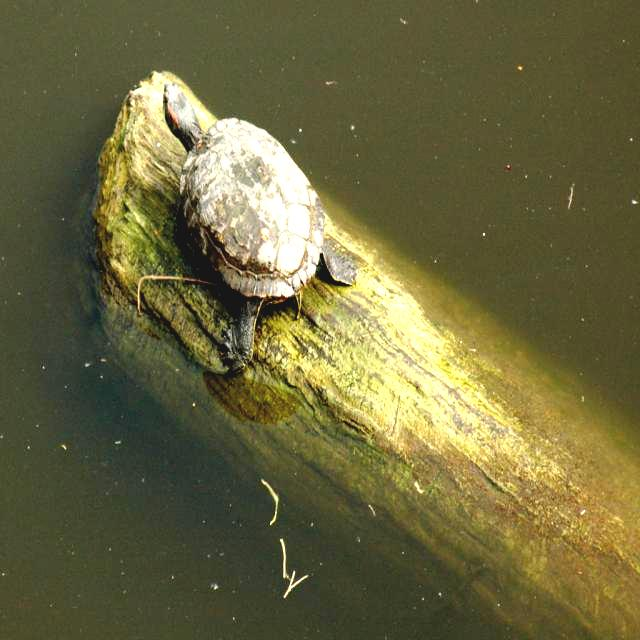Sea turtle: (163, 79, 357, 376)
